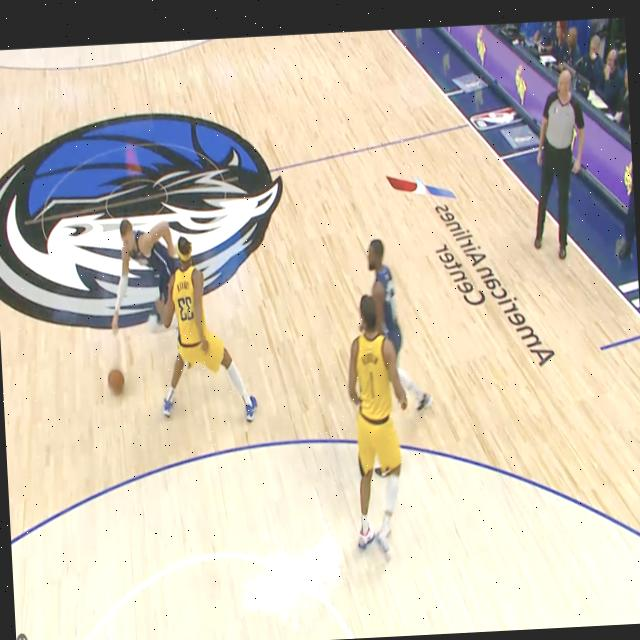no foul: (319, 176, 454, 566), (81, 192, 266, 452)
